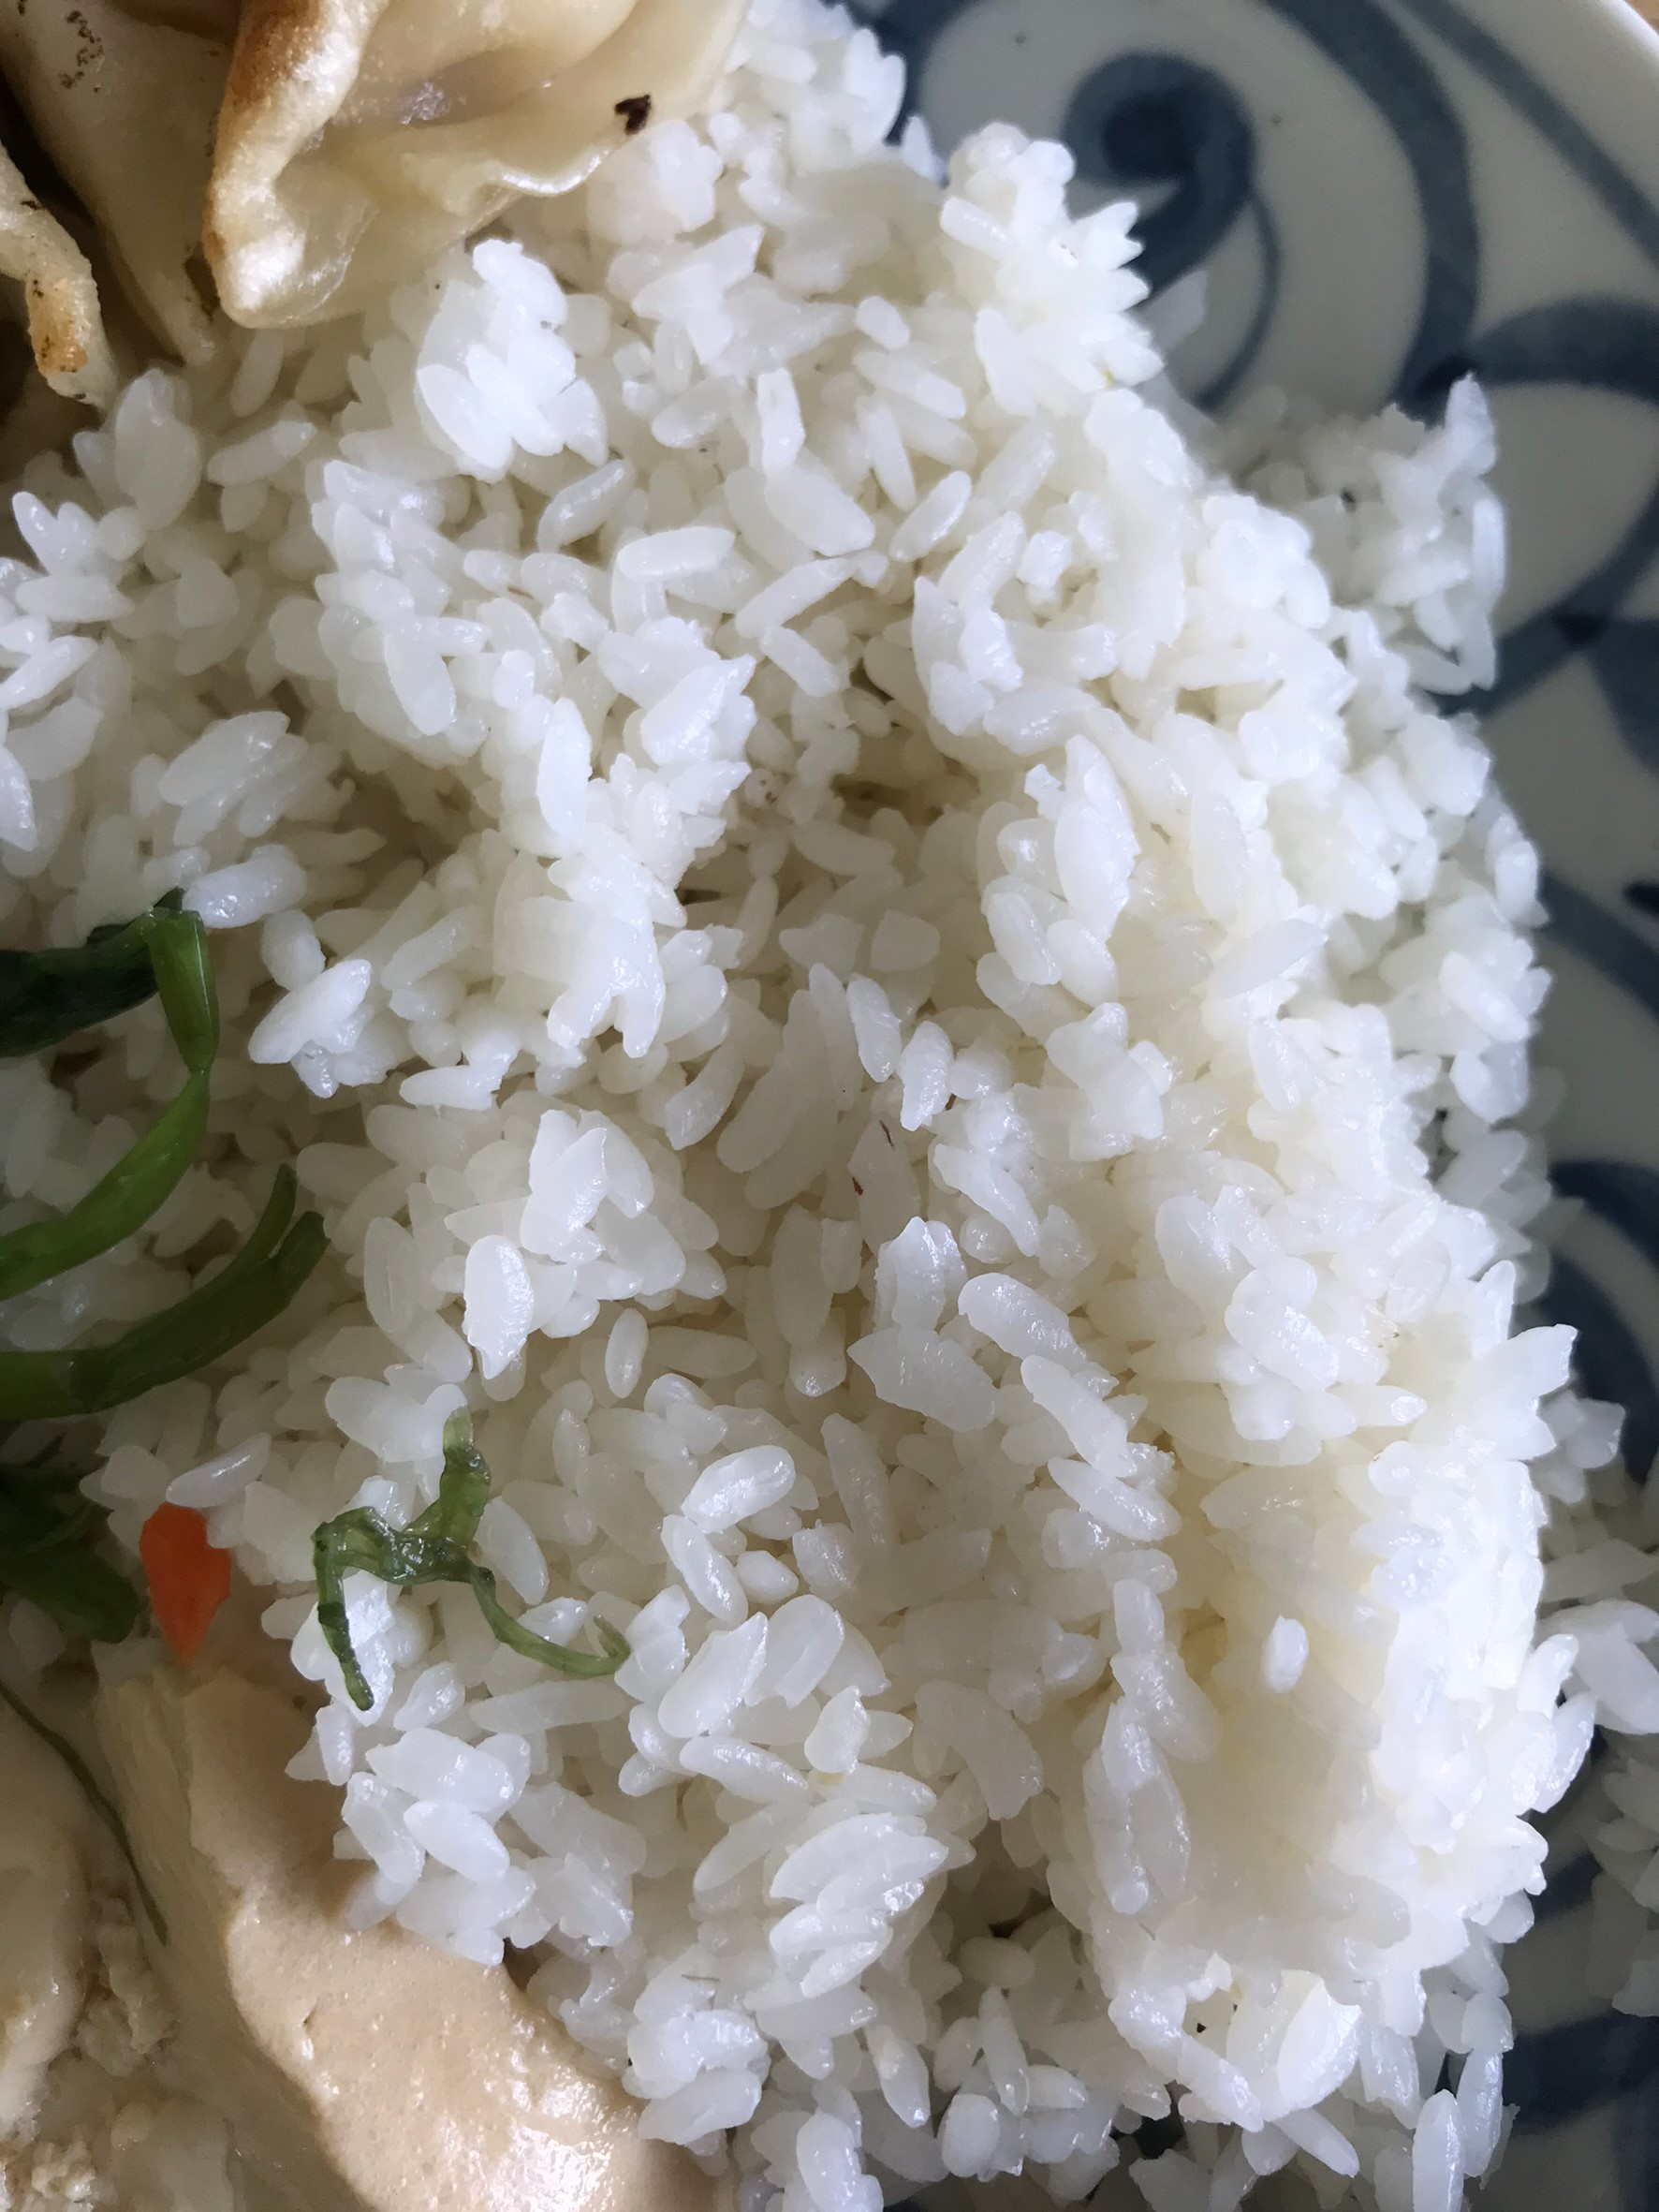rice: (373, 258, 1398, 1989)
